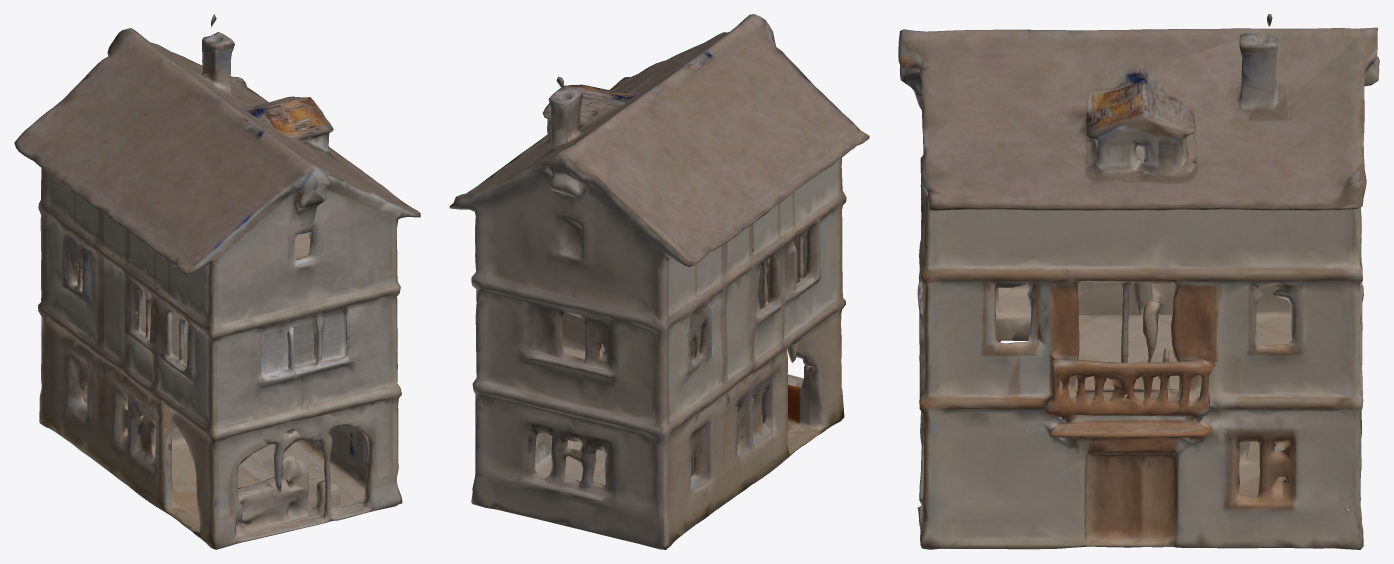
The picture shows the model from 3 angles, left to right: view 1: azimuth 30°, elevation 25°; view 2: azimuth 150°, elevation 25°; view 3: azimuth 270°, elevation 25°; orthographic projection. The views are drawn at different scales.
Parts seen in each view (by area): view 1: file1; view 2: file1; view 3: file1.
Part boxes in pixels (x1=…): file1: x1=14, y1=14, x2=420, y2=549; file1: x1=449, y1=14, x2=869, y2=549; file1: x1=898, y1=14, x2=1379, y2=549.
Bounding box in the file's own units: 1.25 × 2.01 × 1.73.
Materials: 1 (1 with a texture image).
